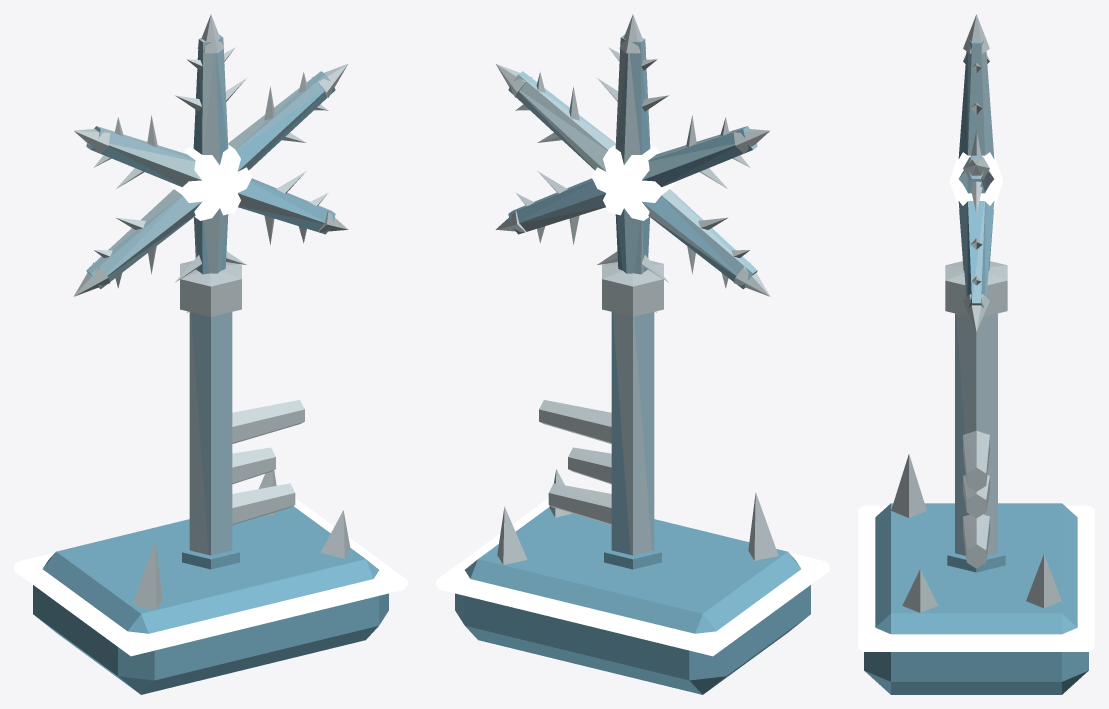
File: artifact-snowflake-key.glb
The picture shows the model from 3 angles, left to right: view 1: azimuth 30°, elevation 25°; view 2: azimuth 150°, elevation 25°; view 3: azimuth 270°, elevation 25°; orthographic projection.
Parts seen in each view (by area): view 1: SnowflakeKey; view 2: SnowflakeKey; view 3: SnowflakeKey.
Part boxes in pixels (x1,y1,x2,y2): SnowflakeKey: [14, 14, 407, 694]; SnowflakeKey: [436, 14, 829, 694]; SnowflakeKey: [858, 14, 1094, 694].
Bounding box in the file's own units: 0.145 × 0.307 × 0.105.
